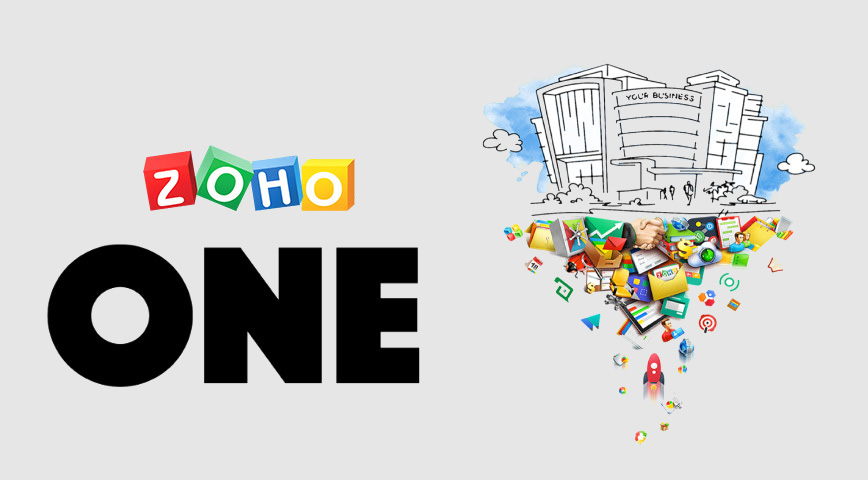zoho: (138, 145, 357, 213)
